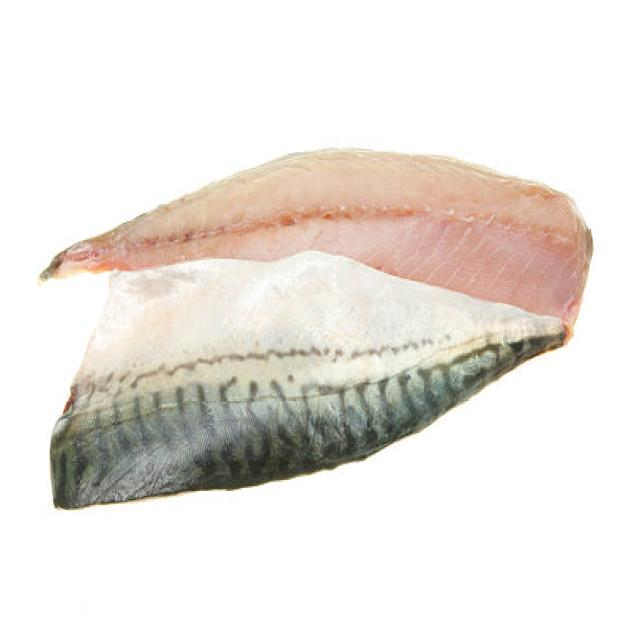Mackerel: (51, 251, 565, 507), (41, 150, 592, 338)
